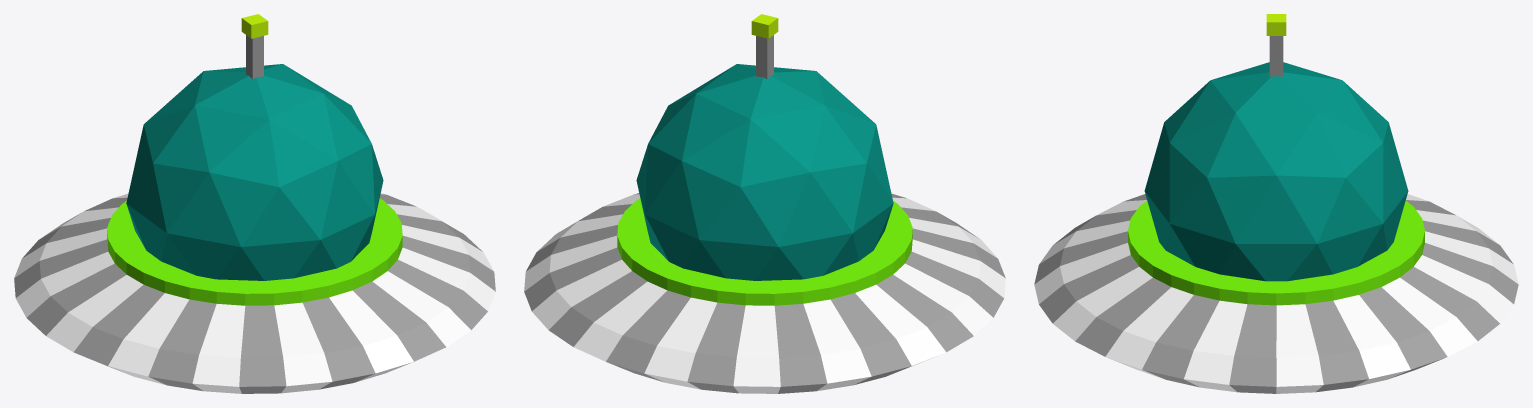
File: LowPoly UFO.fbx
3 views of the same model, side by side, from view 1: azimuth 30°, elevation 25°; view 2: azimuth 150°, elevation 25°; view 3: azimuth 270°, elevation 25° (orthographic).
Parts seen in each view (by area): view 1: Cylinder.001; view 2: Cylinder.001; view 3: Cylinder.001.
Boxes of the visible parts, x1,y1,x2,y2 form: Cylinder.001: (14,14,495,393); Cylinder.001: (524,14,1005,393); Cylinder.001: (1034,14,1518,393).
Size of the model in its own units: 158 by 105 by 158.
